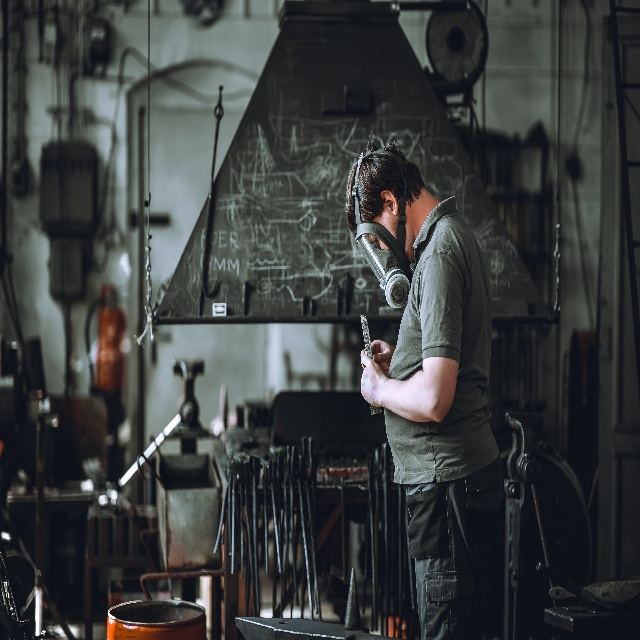Sin_guantes: (360, 354, 385, 407), (360, 339, 393, 376)
